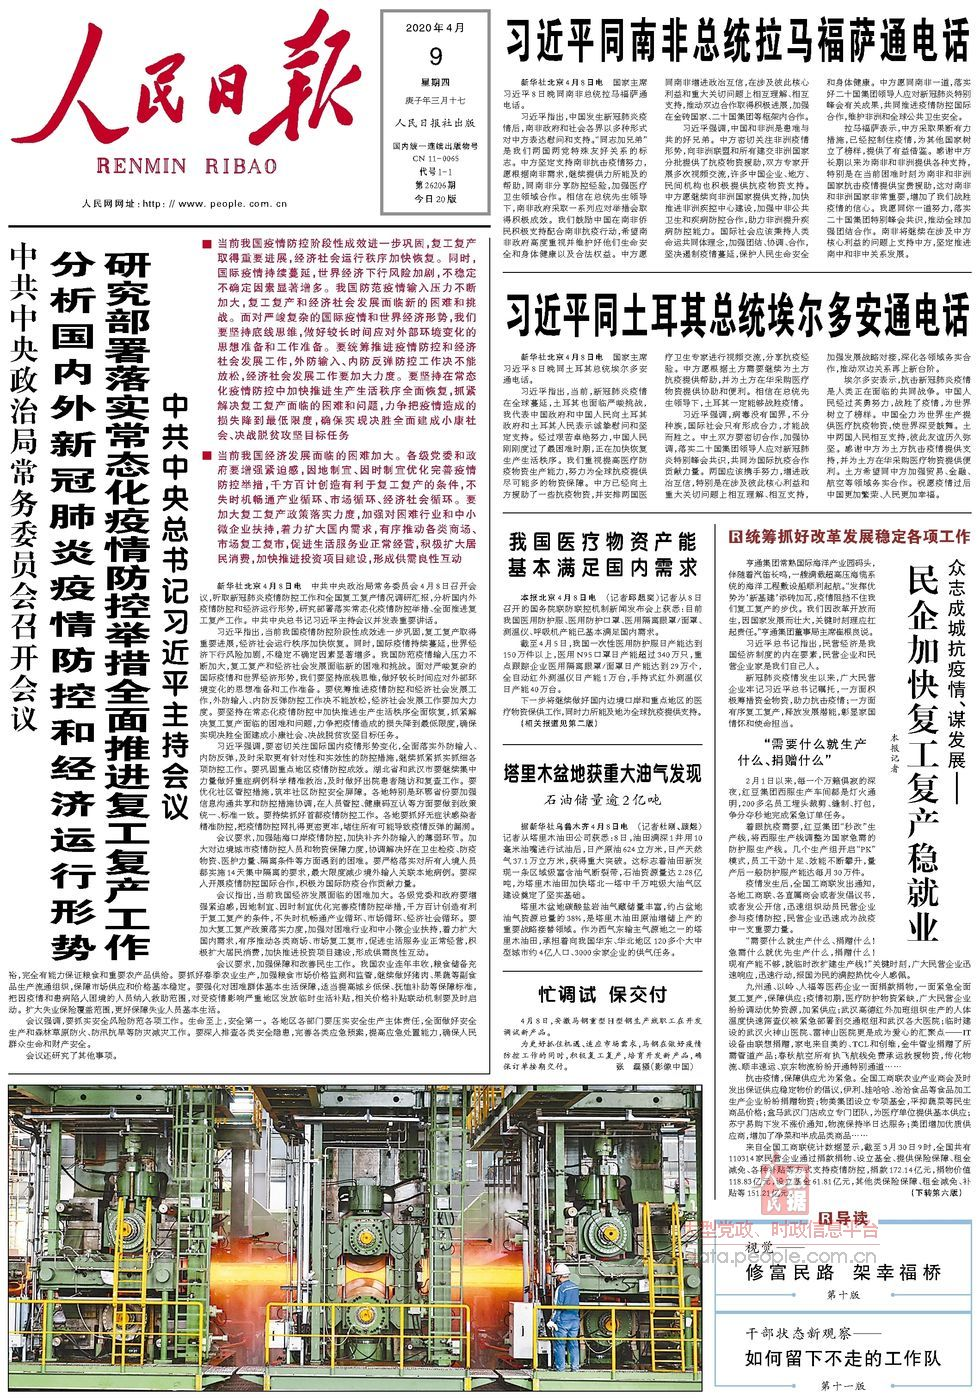pic: (3, 1078, 708, 1397)
